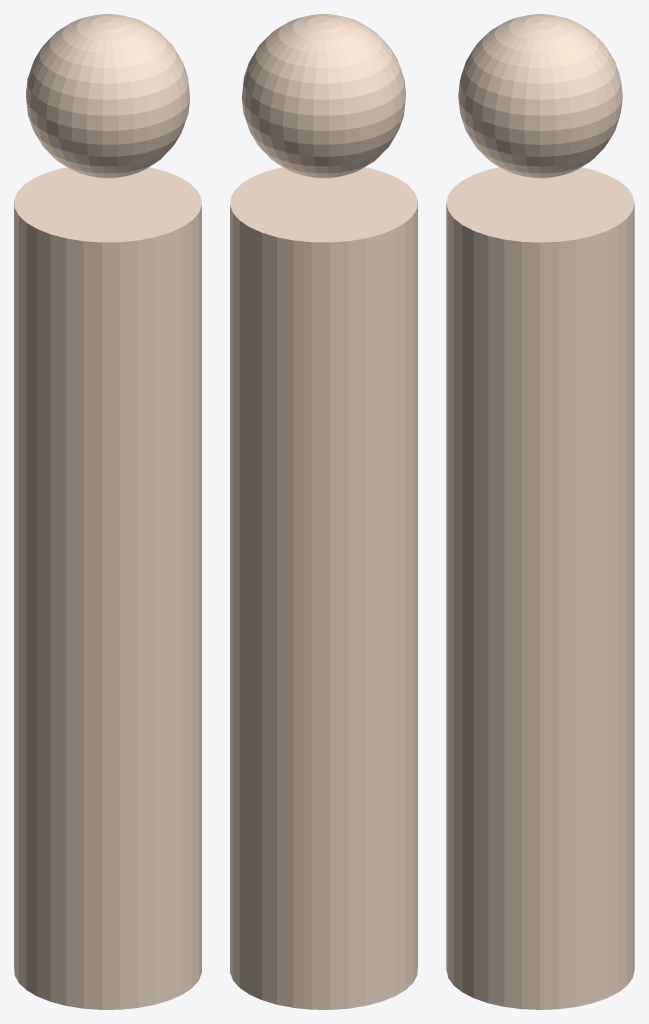
The picture shows the model from 3 angles, left to right: view 1: azimuth 30°, elevation 25°; view 2: azimuth 150°, elevation 25°; view 3: azimuth 270°, elevation 25°; orthographic projection.
Visible parts, largest first — view 1: CH_PC1_Body, CH_PC1_Head; view 2: CH_PC1_Body, CH_PC1_Head; view 3: CH_PC1_Body, CH_PC1_Head.
Boxes of the visible parts, x1,y1,x2,y2 form: CH_PC1_Body: (14, 167, 201, 1009); CH_PC1_Head: (26, 14, 189, 178); CH_PC1_Body: (230, 167, 417, 1009); CH_PC1_Head: (242, 14, 405, 178); CH_PC1_Body: (446, 167, 634, 1009); CH_PC1_Head: (458, 14, 622, 178).
Size of the model in its own units: 0.8 by 4.45 by 0.8.
